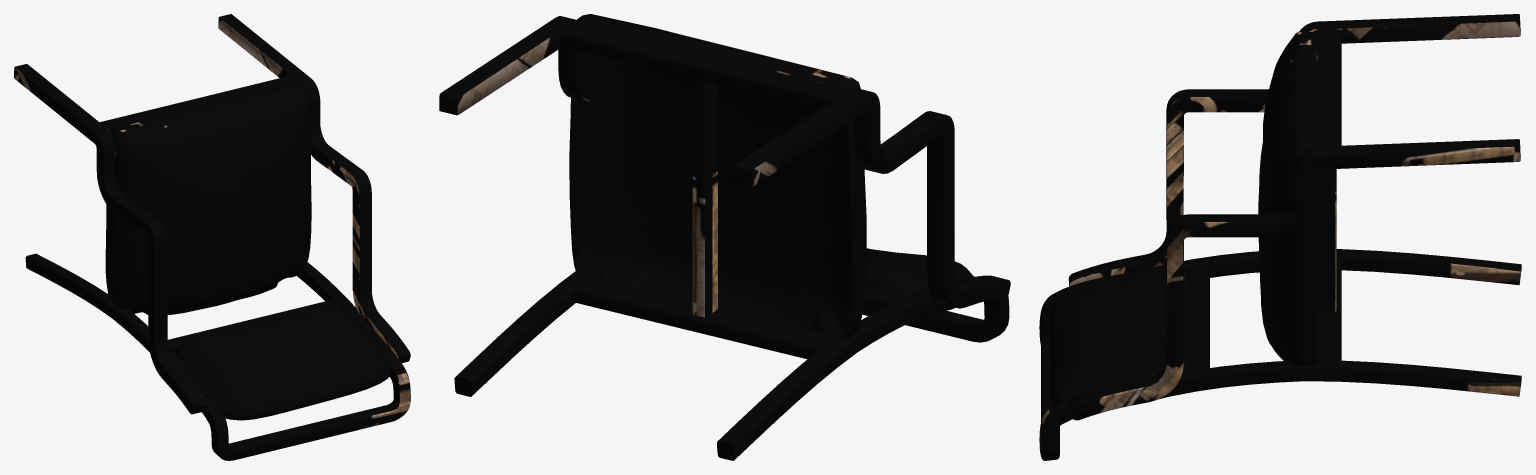
3 renders of one model, left to right at view 1: azimuth 30°, elevation 25°; view 2: azimuth 150°, elevation 25°; view 3: azimuth 270°, elevation 25°, orthographic. The views are drawn at different scales.
Size of the model in its own units: 0.6804 by 0.7868 by 1.04.
